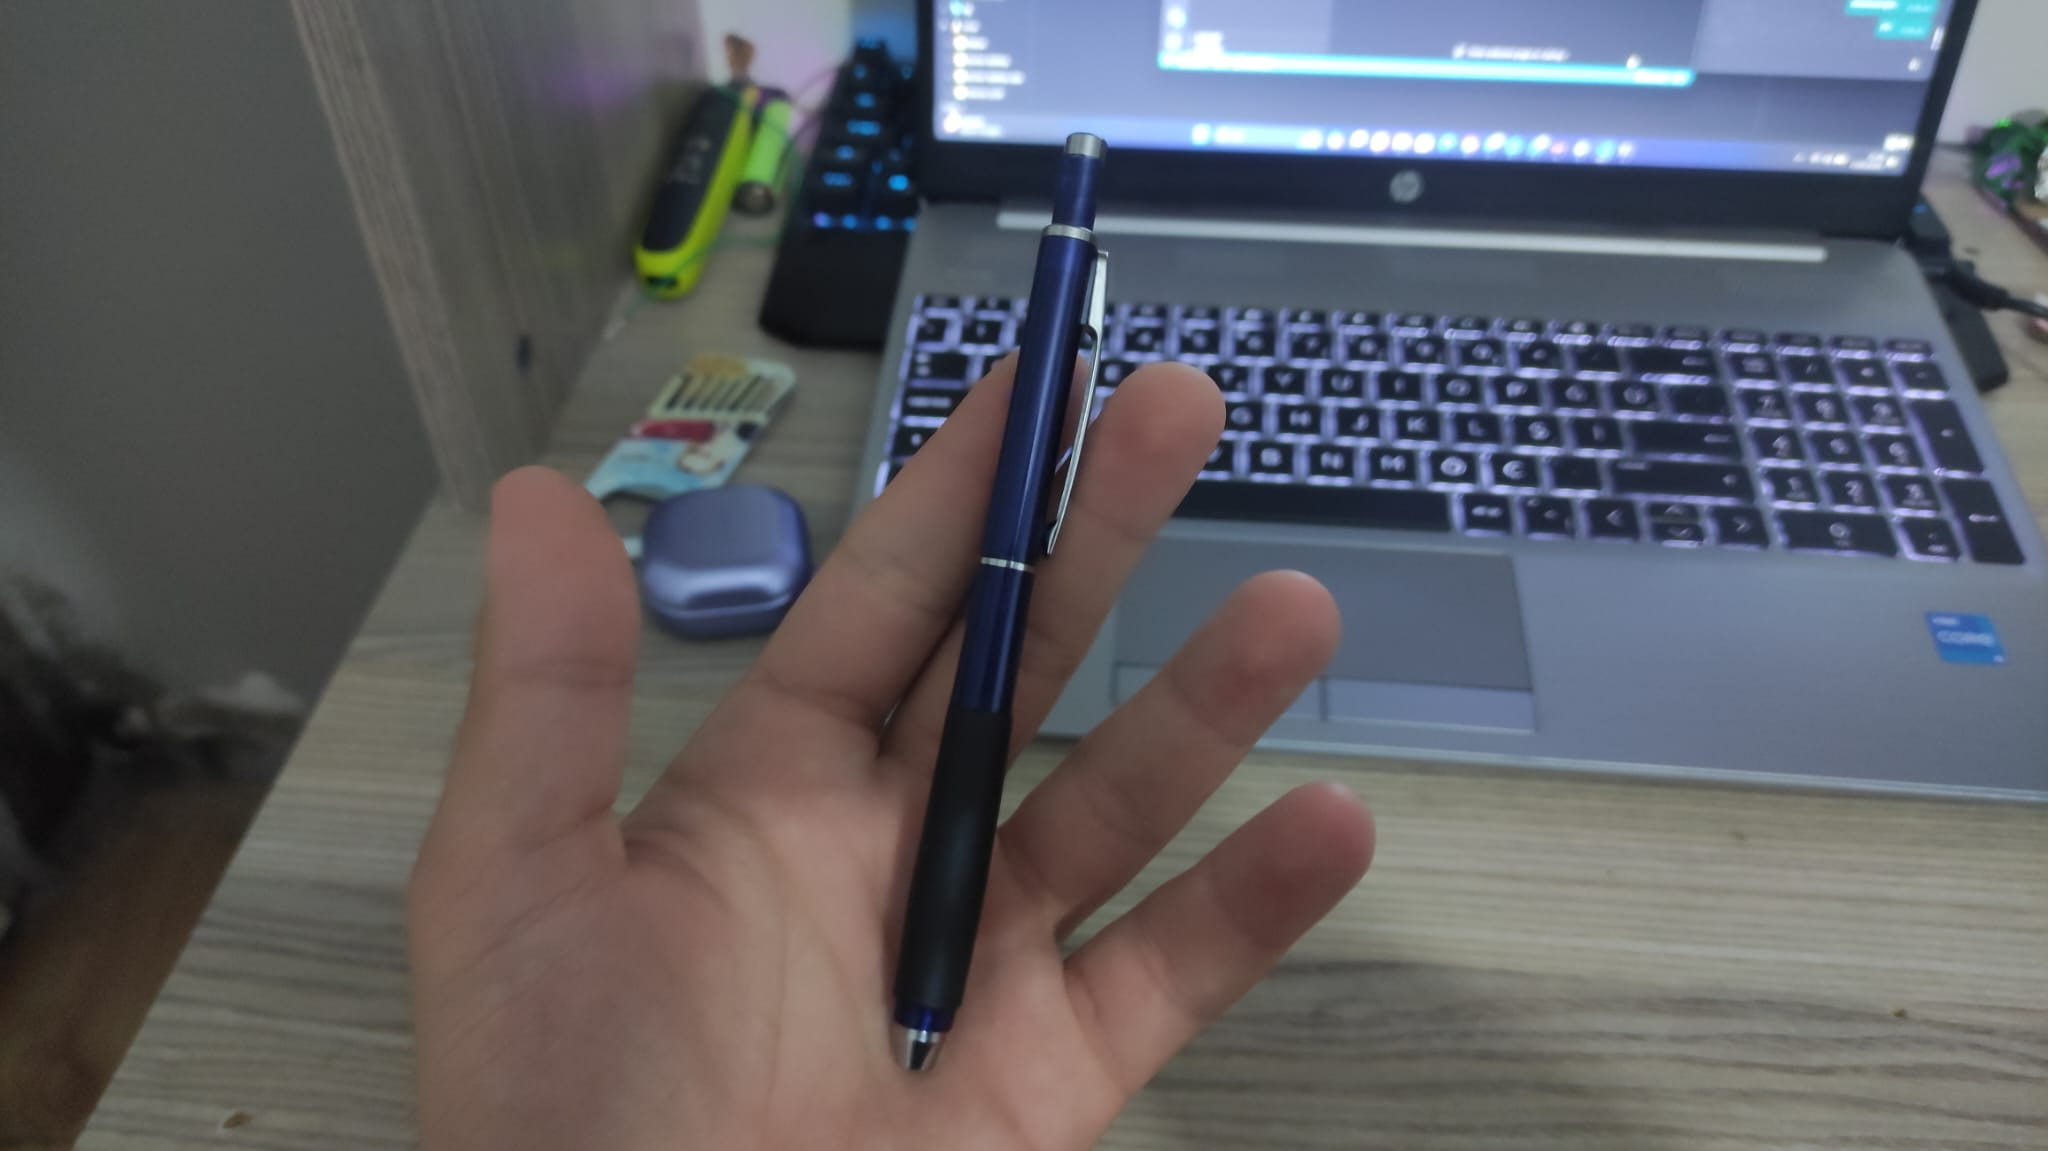kalem: (883, 128, 1113, 1074)
